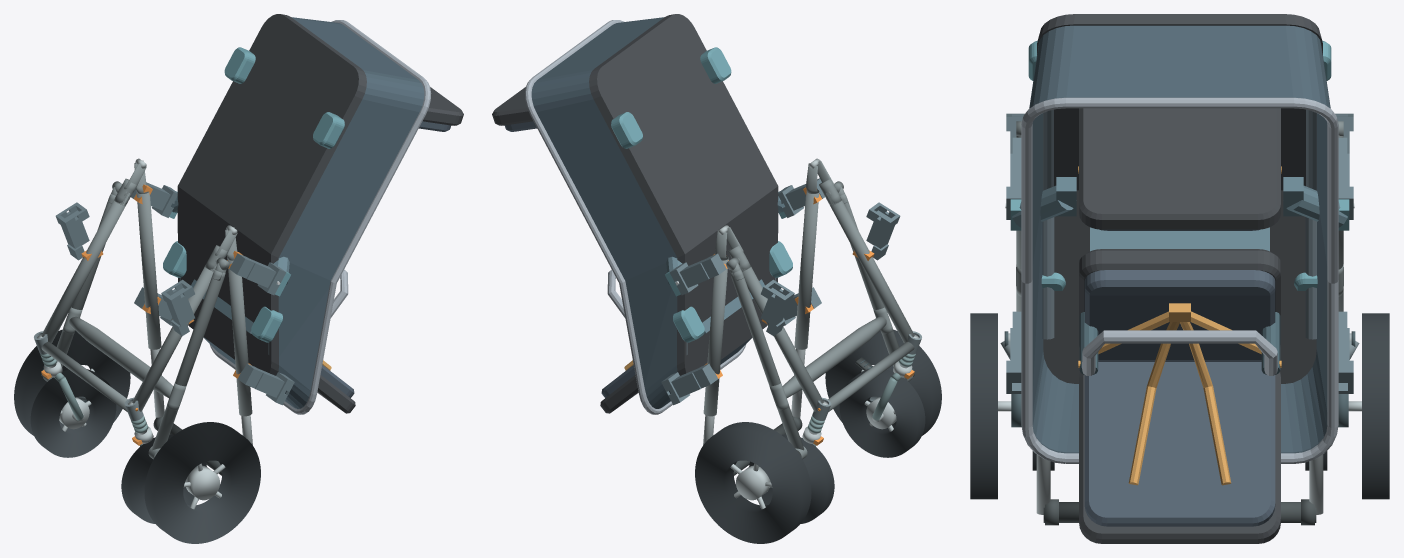
The model's file is S11_w550_state3_wheel_M.glb.
3 renders of one model, left to right at view 1: azimuth 30°, elevation 25°; view 2: azimuth 150°, elevation 25°; view 3: azimuth 270°, elevation 25°, orthographic. The views are drawn at different scales.
Visible parts, largest first — view 1: S11_Cabin, RL_tire.002, FR_tire.002, RR_tire.002, main_lower_1.003, main_upper_1.003, V46_rear_leg_-1.003, main_upper_-1.003, FL_tire.002, V46_rearbar.003, main_lower_-1.003, Universal_Cabin_Receiver_H_-1 (+7 smaller); view 2: S11_Cabin, RR_tire.002, FL_tire.002, RL_tire.002, main_lower_-1.003, main_upper_-1.003, V46_rear_leg_1.003, main_upper_1.003, FR_tire.002, V46_rearbar.003, main_lower_1.003, Universal_Cabin_Receiver_H_1 (+7 smaller); view 3: S11_Cabin, RL_tire.002, RR_tire.002, S11_Cabin_Mount_M, Universal_Cabin_Receiver_H_1, Universal_Cabin_Receiver_H_-1, round_handle.002, Universal_Cabin_Receiver_M_1, Universal_Cabin_Receiver_M_-1, handle_slider_1.002, handle_slider_-1.002.
Boxes of the visible parts, <box> form: S11_Cabin: <box>163,14,463,414</box>; RL_tire.002: <box>144,422,260,543</box>; FR_tire.002: <box>30,369,116,457</box>; RR_tire.002: <box>14,329,130,435</box>; main_lower_1.003: <box>41,193,130,343</box>; main_upper_1.003: <box>136,192,161,349</box>; V46_rear_leg_-1.003: <box>151,269,225,450</box>; main_upper_-1.003: <box>227,258,252,416</box>; FL_tire.002: <box>121,434,206,523</box>; V46_rearbar.003: <box>69,316,173,397</box>; main_lower_-1.003: <box>132,265,216,411</box>; Universal_Cabin_Receiver_H_-1: <box>238,363,294,405</box>; S11_Cabin: <box>492,14,792,414</box>; RR_tire.002: <box>695,422,811,543</box>; FL_tire.002: <box>839,369,925,457</box>; RL_tire.002: <box>825,329,941,435</box>; main_lower_-1.003: <box>825,193,914,343</box>; main_upper_-1.003: <box>794,192,819,349</box>; V46_rear_leg_1.003: <box>730,269,804,450</box>; main_upper_1.003: <box>703,257,728,416</box>; FR_tire.002: <box>749,434,834,523</box>; V46_rearbar.003: <box>782,316,886,397</box>; main_lower_1.003: <box>739,265,823,411</box>; Universal_Cabin_Receiver_H_1: <box>661,363,717,405</box>; S11_Cabin: <box>1021,14,1338,543</box>; RL_tire.002: <box>970,313,997,499</box>; RR_tire.002: <box>1362,313,1389,499</box>; S11_Cabin_Mount_M: <box>1005,177,1354,230</box>; Universal_Cabin_Receiver_H_1: <box>1338,311,1353,393</box>; Universal_Cabin_Receiver_H_-1: <box>1006,311,1021,393</box>; round_handle.002: <box>1043,502,1316,522</box>; Universal_Cabin_Receiver_M_1: <box>1338,137,1353,219</box>; Universal_Cabin_Receiver_M_-1: <box>1006,137,1021,219</box>; handle_slider_1.002: <box>1309,454,1323,514</box>; handle_slider_-1.002: <box>1036,454,1050,514</box>.
Size of the model in its own units: 0.9962 by 1.09 by 0.6771.
